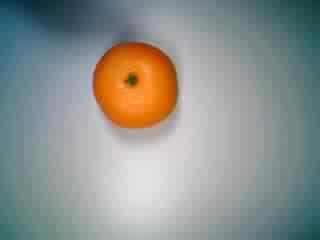orange: (85, 40, 182, 134)
